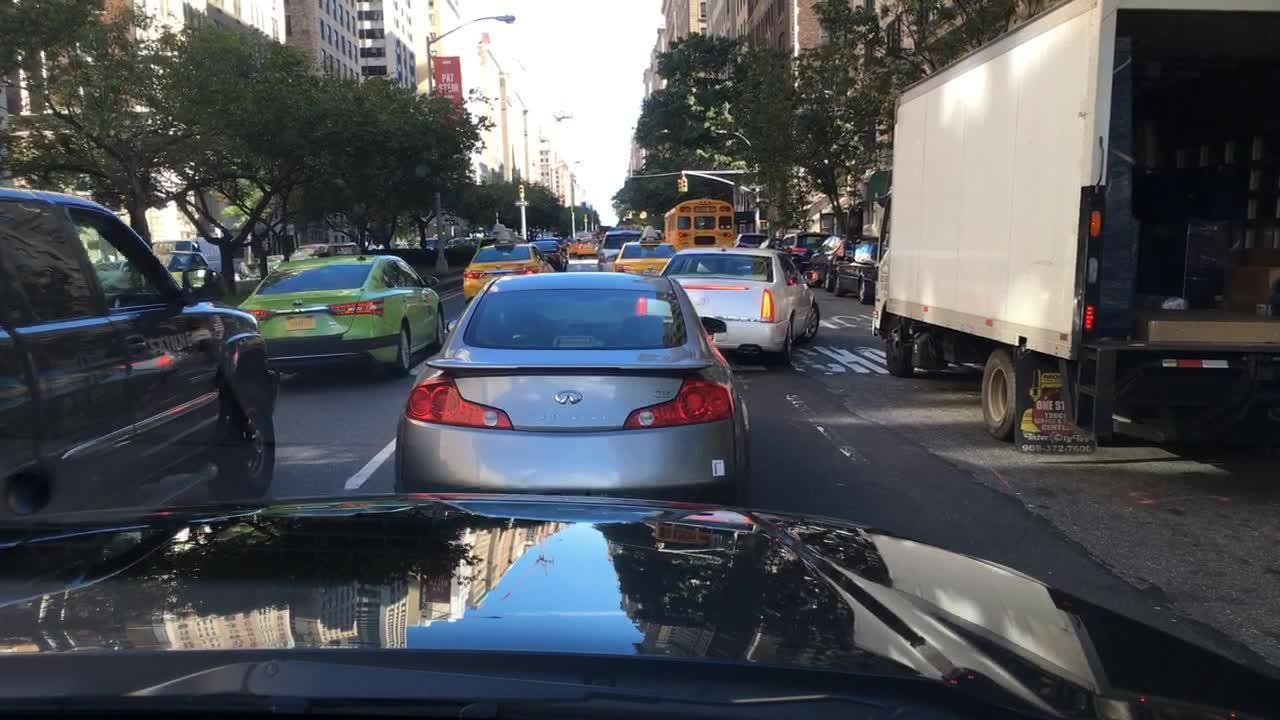Infiniti: (553, 381, 589, 414)
